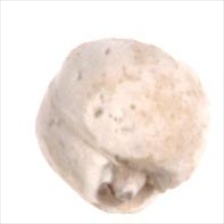L3: (96, 154, 186, 212)
L4: (35, 38, 208, 212)
